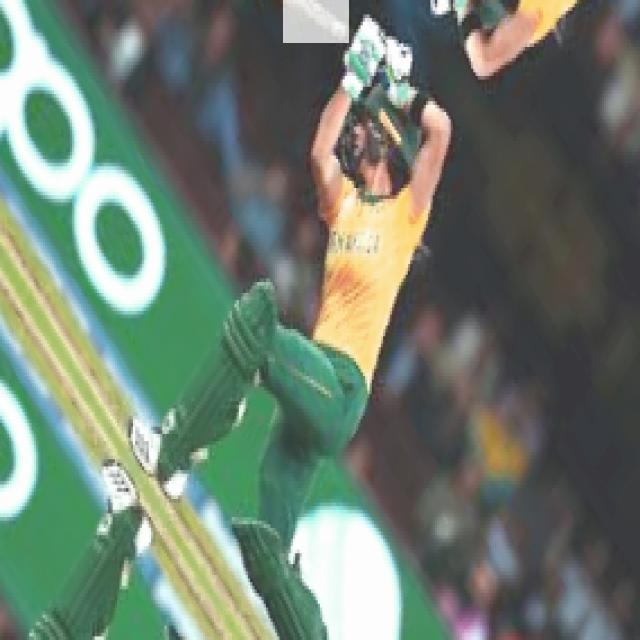bat: (283, 0, 351, 44)
